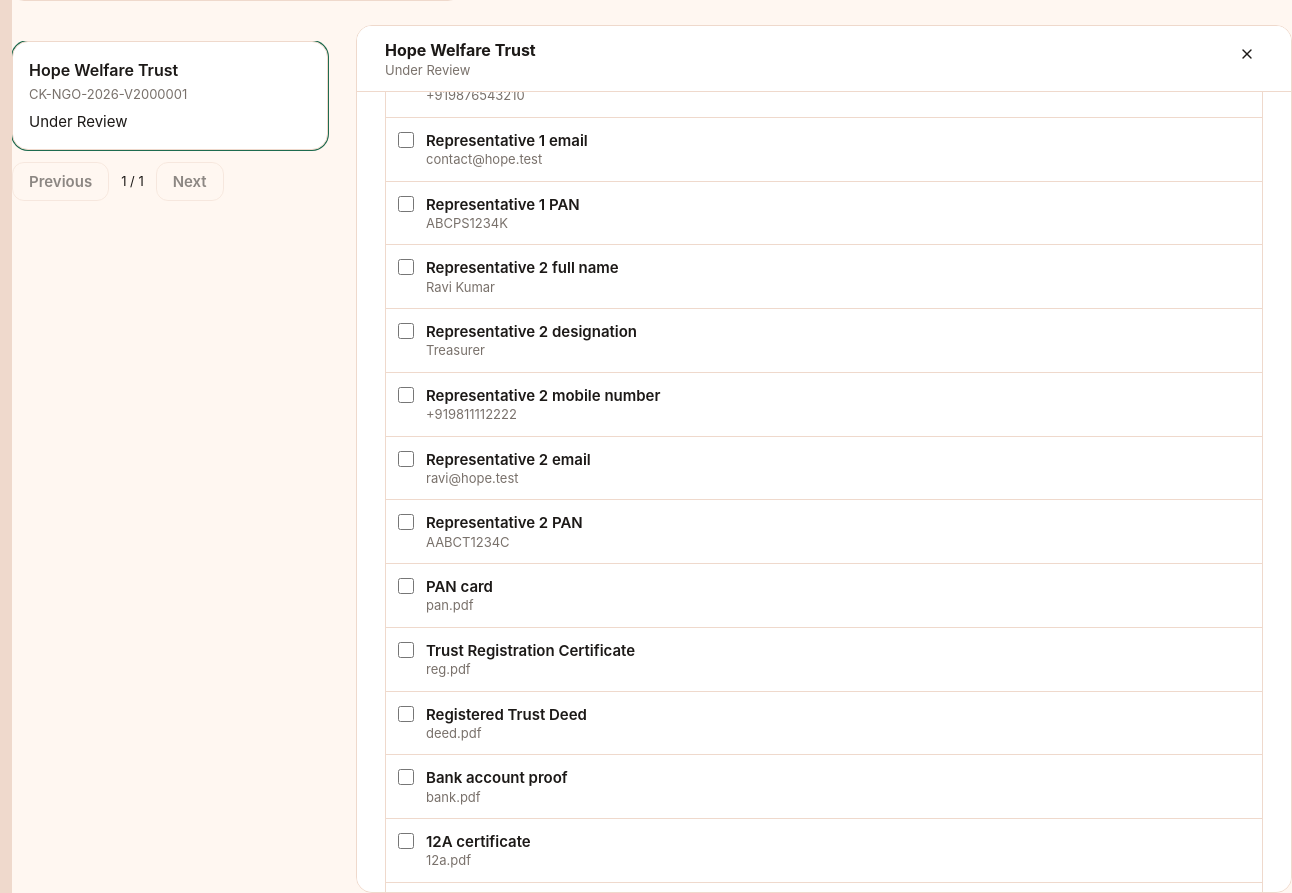
Test: admin NGO review: current wizard › can request changes on new fields, documents and a representative
The image size is (1292, 893).
(page scrolled)
Expected: the text "PAN card" is shown, top-left (426, 576), bottom-right (493, 597)
Expected: the text "Representative 2 email" is shown, top-left (426, 448), bottom-right (591, 470)
Click the checkbox labelled "Representative 2 email ravi@hope.test".
click(406, 458)  # box top-left (398, 450), bottom-right (414, 466)
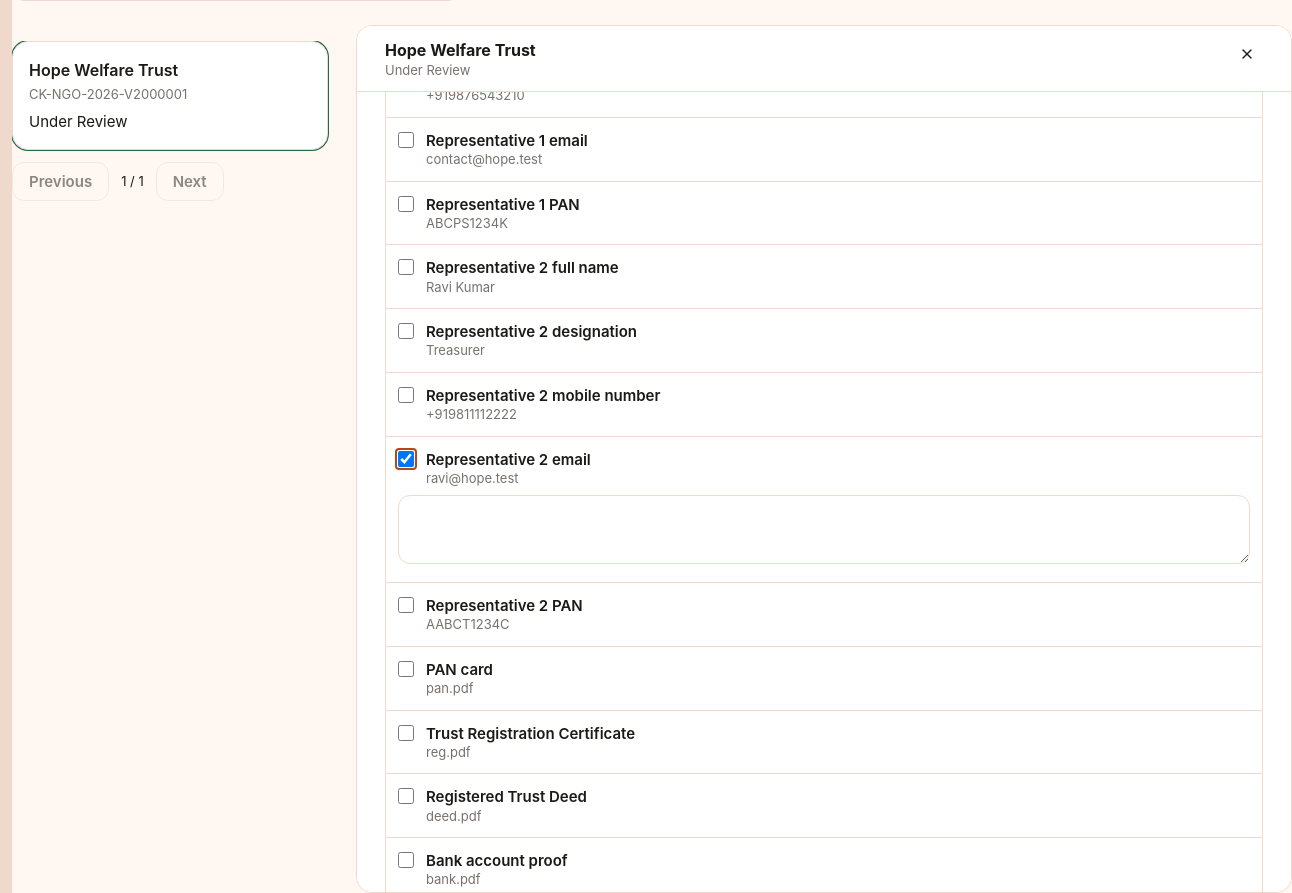
Expected: the text box named "What is wrong with Representative 2 email" is shown, top-left (398, 495), bottom-right (1250, 564)
